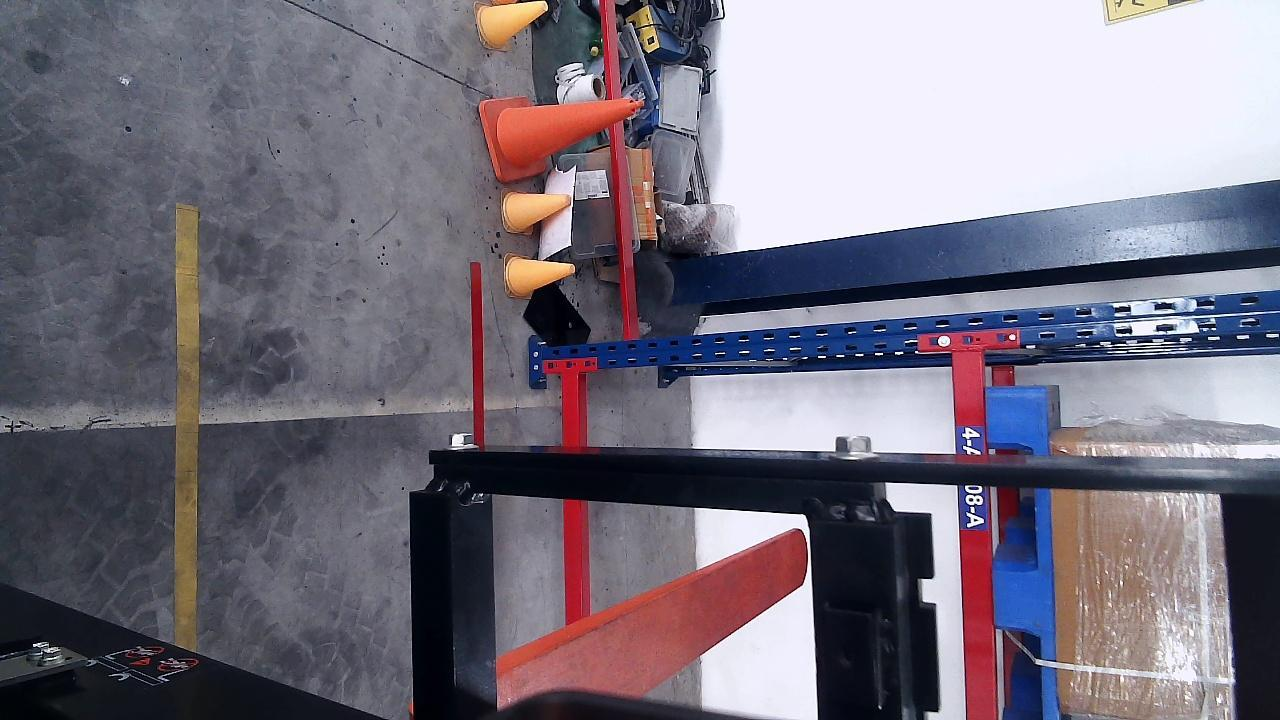h_rack: (954, 347, 998, 717), (558, 370, 584, 625)
red_line: (469, 262, 490, 445)
small_pallet: (985, 390, 1057, 720)
yellow_line: (174, 204, 200, 652)
